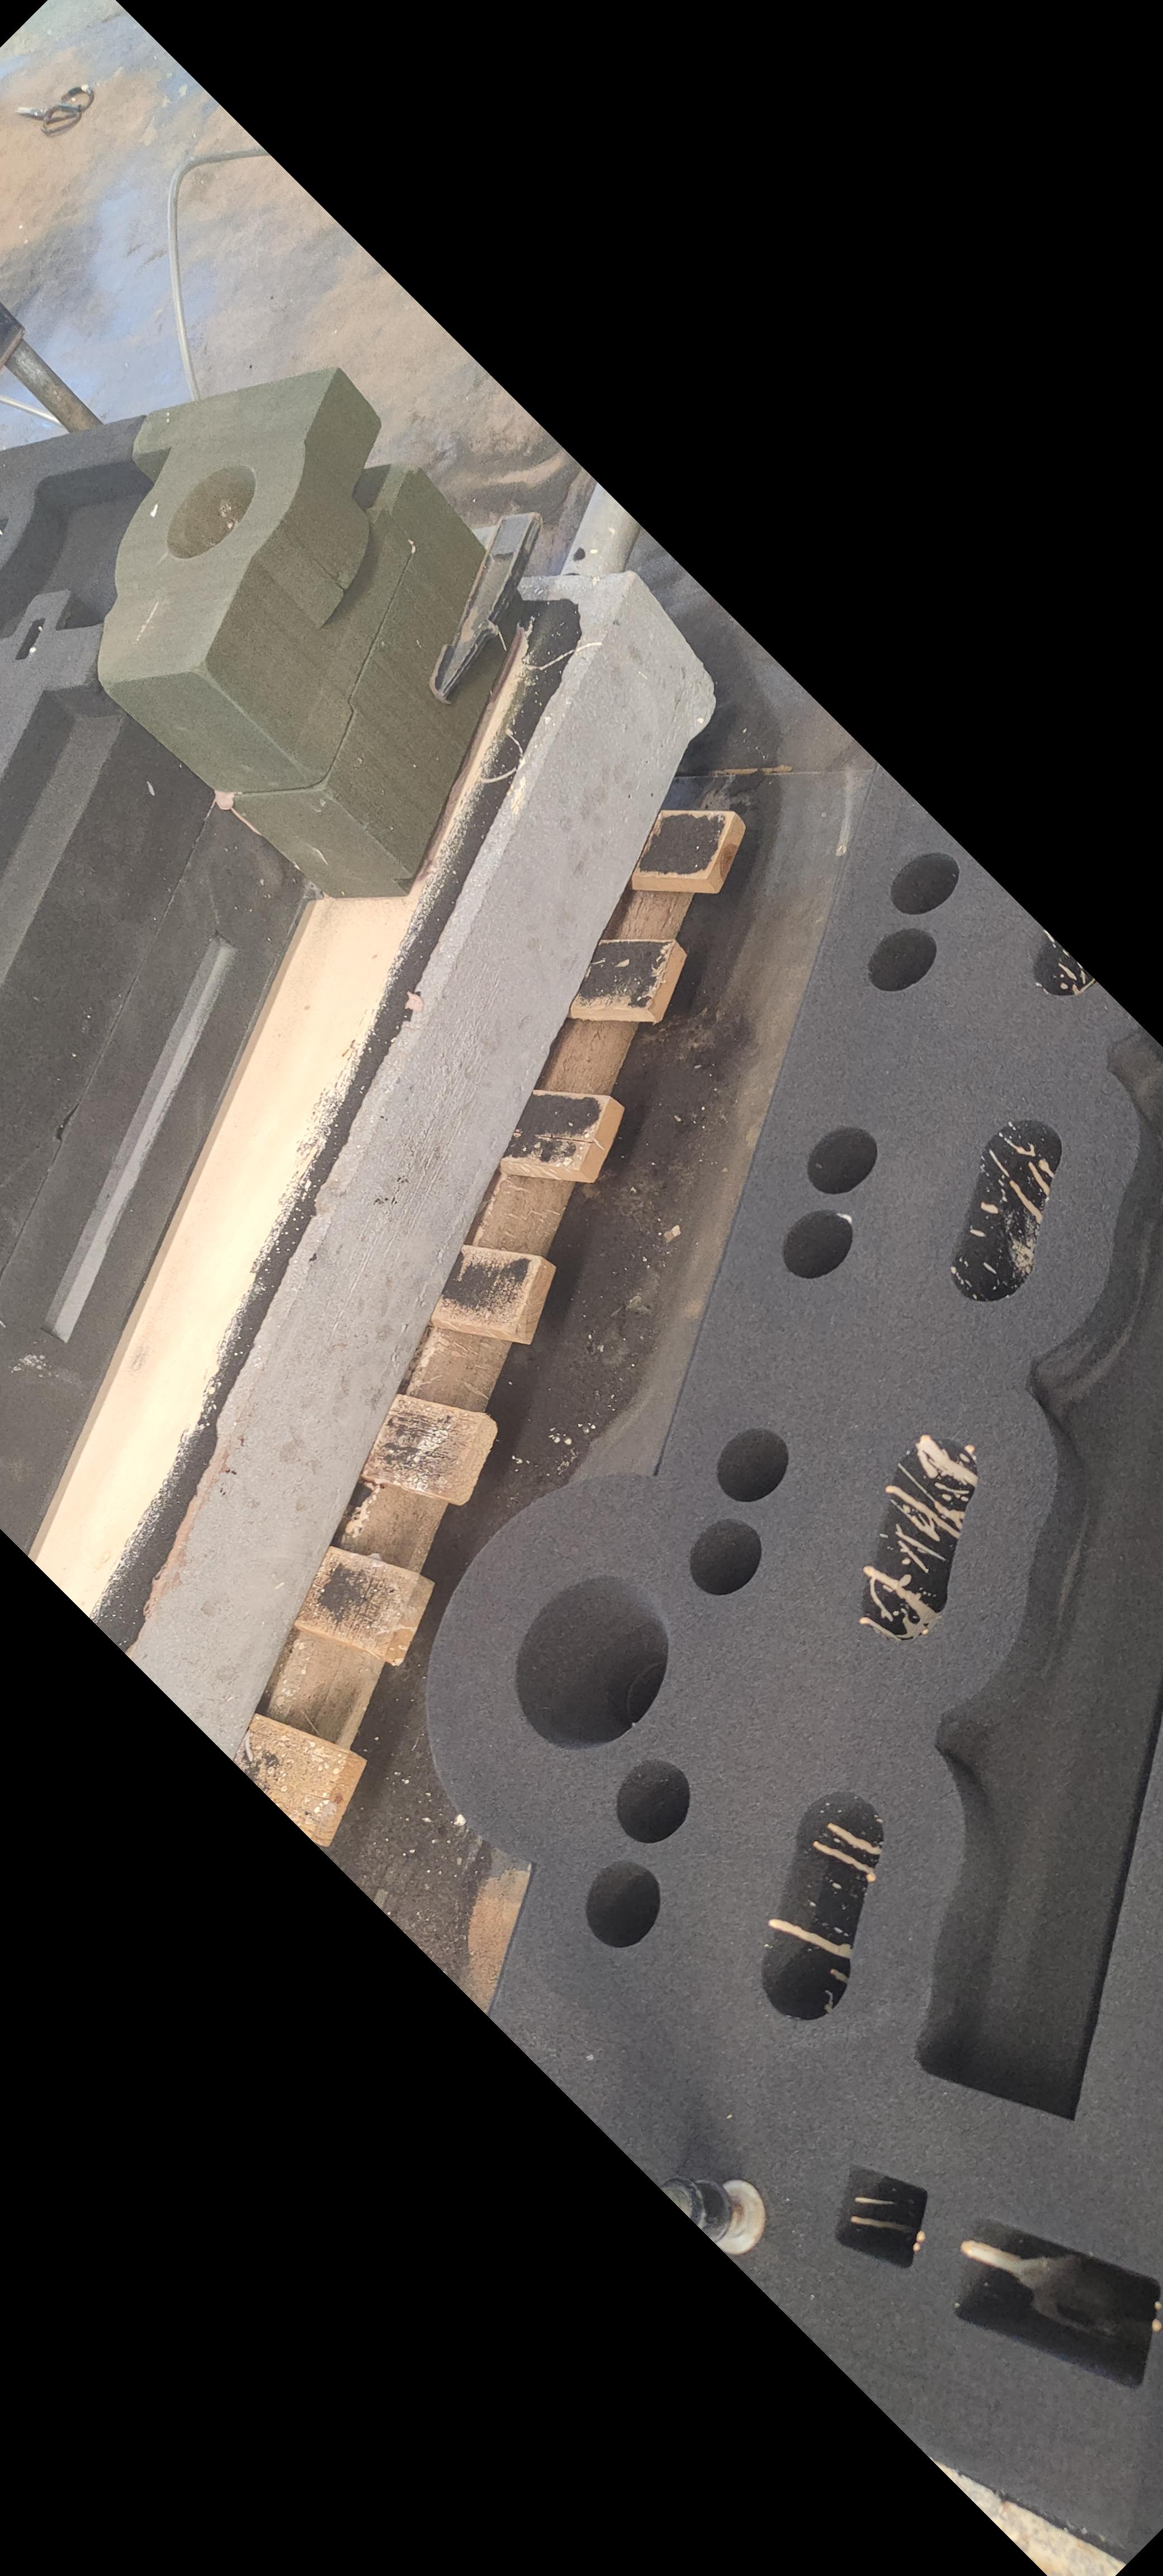pouring hole: (509, 1572, 670, 1751), (164, 463, 256, 560)
